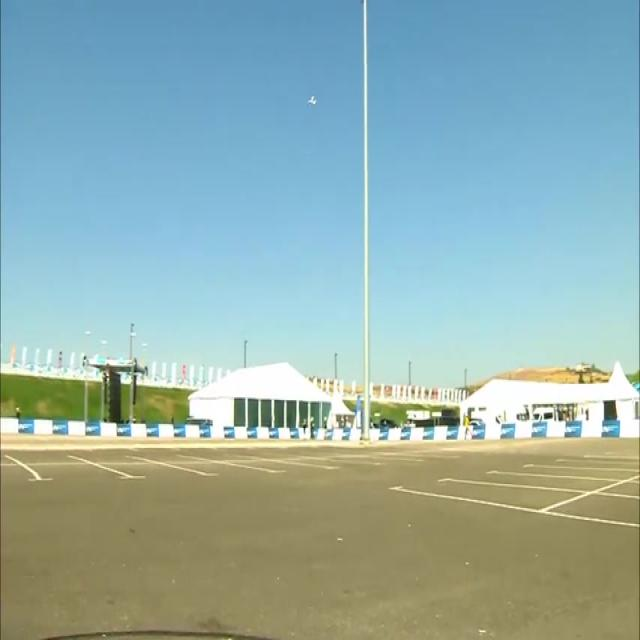iha: (309, 30, 315, 43)
